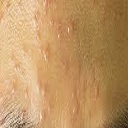Chickenpox: (12, 19, 84, 85)
